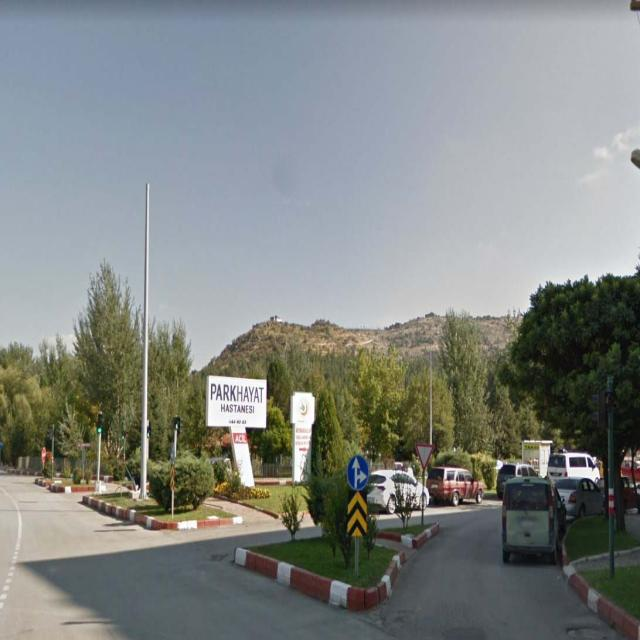ilerisag: (348, 456, 369, 490)
